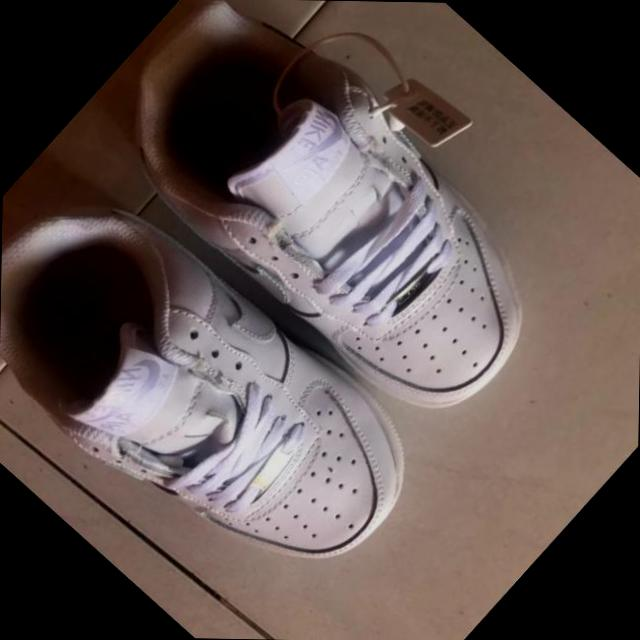nike_fake_airforce: (69, 0, 583, 449), (0, 139, 452, 640)
